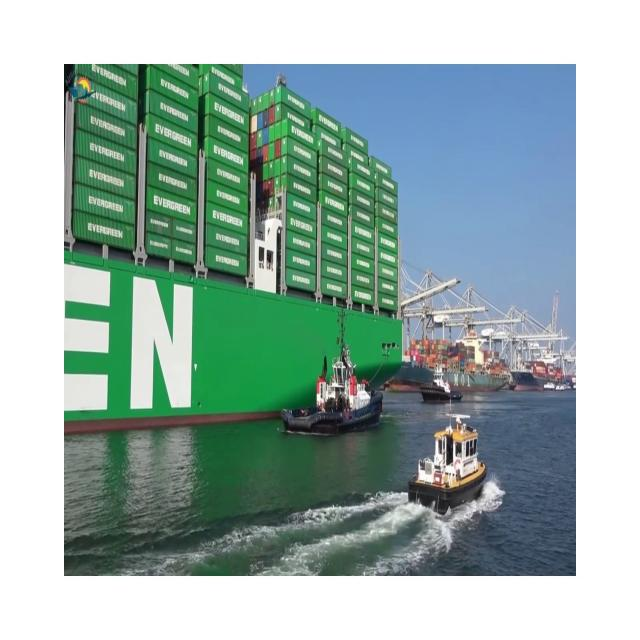OCR: (62, 247, 206, 434)
